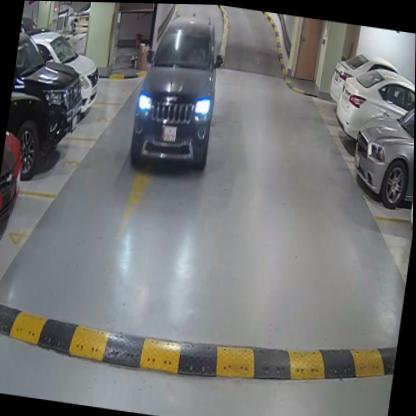np: (160, 122, 177, 144)
